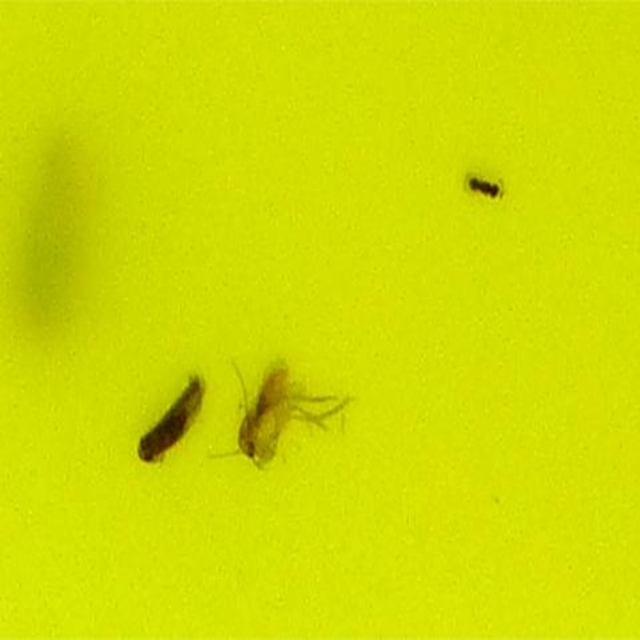Brachycera: (461, 169, 506, 203)
Hemiptera: (134, 370, 207, 468)
Nematocera: (234, 360, 350, 471)
